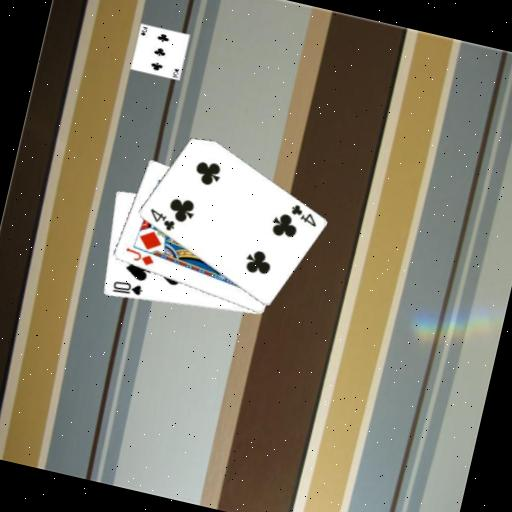10S: (108, 276, 145, 300)
4C: (285, 200, 321, 230), (143, 205, 179, 234)
JD: (120, 244, 157, 269)
